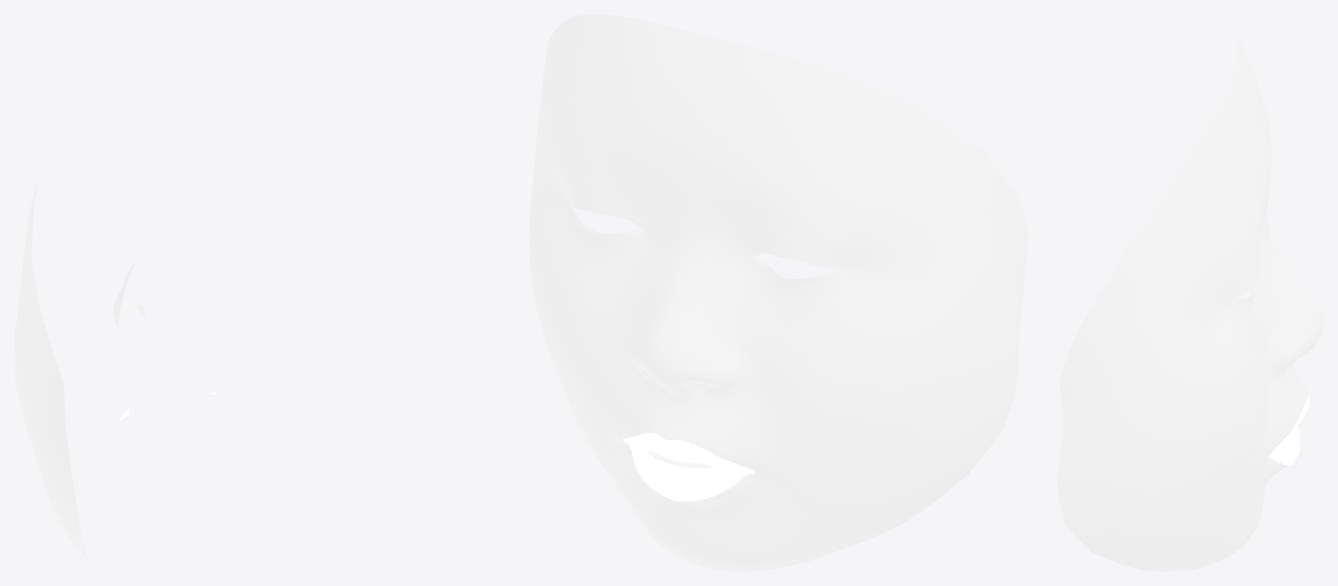
3 renders of one model, left to right at view 1: azimuth 30°, elevation 25°; view 2: azimuth 150°, elevation 25°; view 3: azimuth 270°, elevation 25°, orthographic. The views are drawn at different scales.
Visible parts, largest first — view 1: ARFaceMeshManager; view 2: ARFaceMeshManager; view 3: ARFaceMeshManager.
Part boxes in pixels (x1,y1,x2,y2): ARFaceMeshManager: (14,155,242,561); ARFaceMeshManager: (529,14,1028,571); ARFaceMeshManager: (1057,27,1323,571).
Bounding box in the file's own units: 0.1573 × 0.1719 × 0.0838.
1 material, 1 textured.
